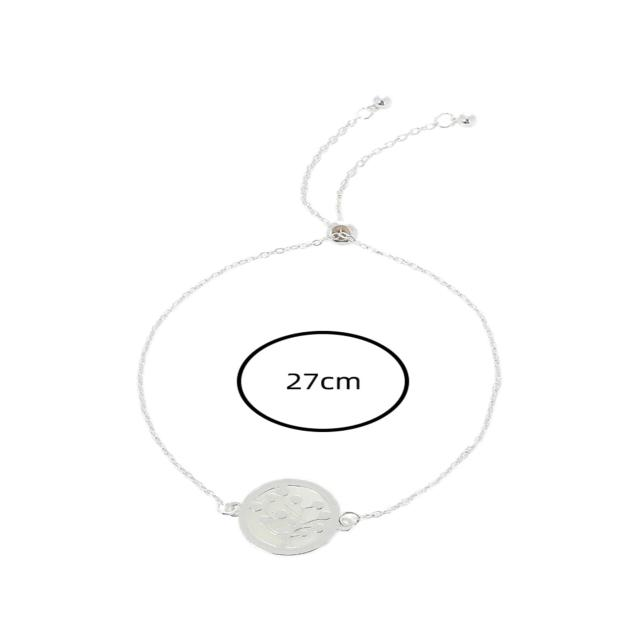bracelet: (91, 44, 640, 609)
